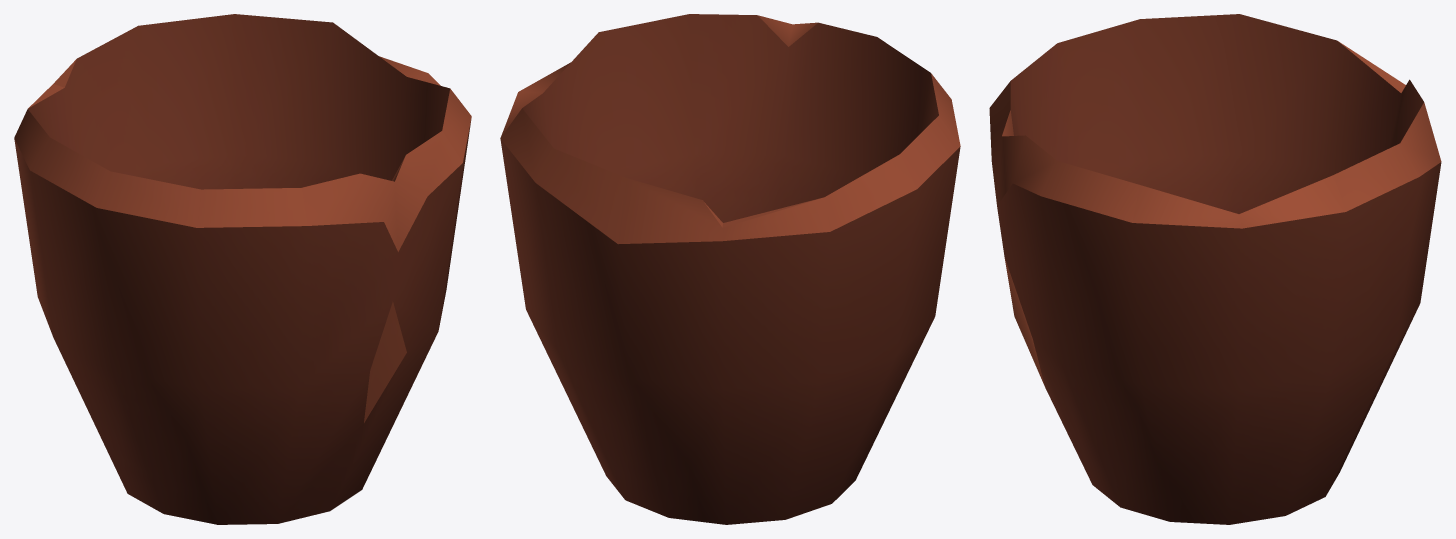
The model's file is Clay_Dish_1D.fbx.
3 views of the same model, side by side, from view 1: azimuth 30°, elevation 25°; view 2: azimuth 150°, elevation 25°; view 3: azimuth 270°, elevation 25° (orthographic).
Visible parts, largest first — view 1: Clay_Dish_1D; view 2: Clay_Dish_1D; view 3: Clay_Dish_1D.
Part boxes in pixels (box(x1,y1,x2,y2)): Clay_Dish_1D: box(14, 14, 471, 524); Clay_Dish_1D: box(500, 14, 960, 524); Clay_Dish_1D: box(989, 14, 1441, 524).
Size of the model in its own units: 0.5789 by 0.5143 by 0.569.
